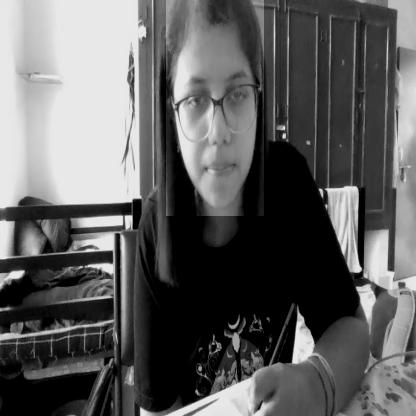Normal: (166, 0, 264, 216)
